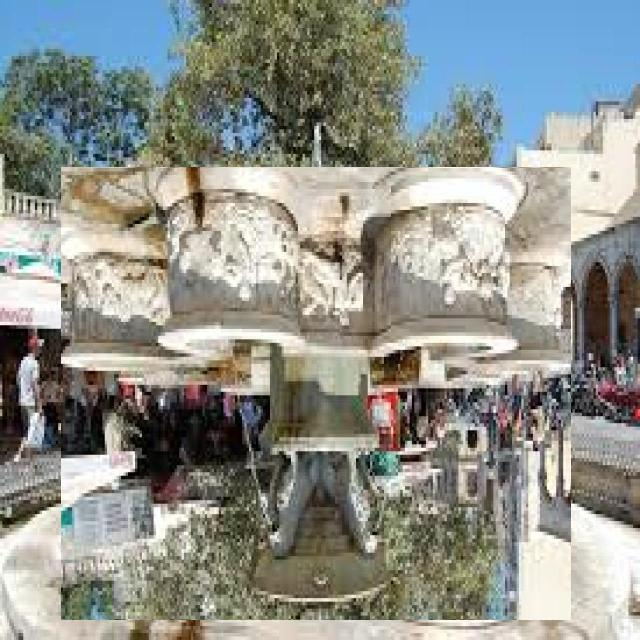Liontaria: (62, 168, 572, 621)
